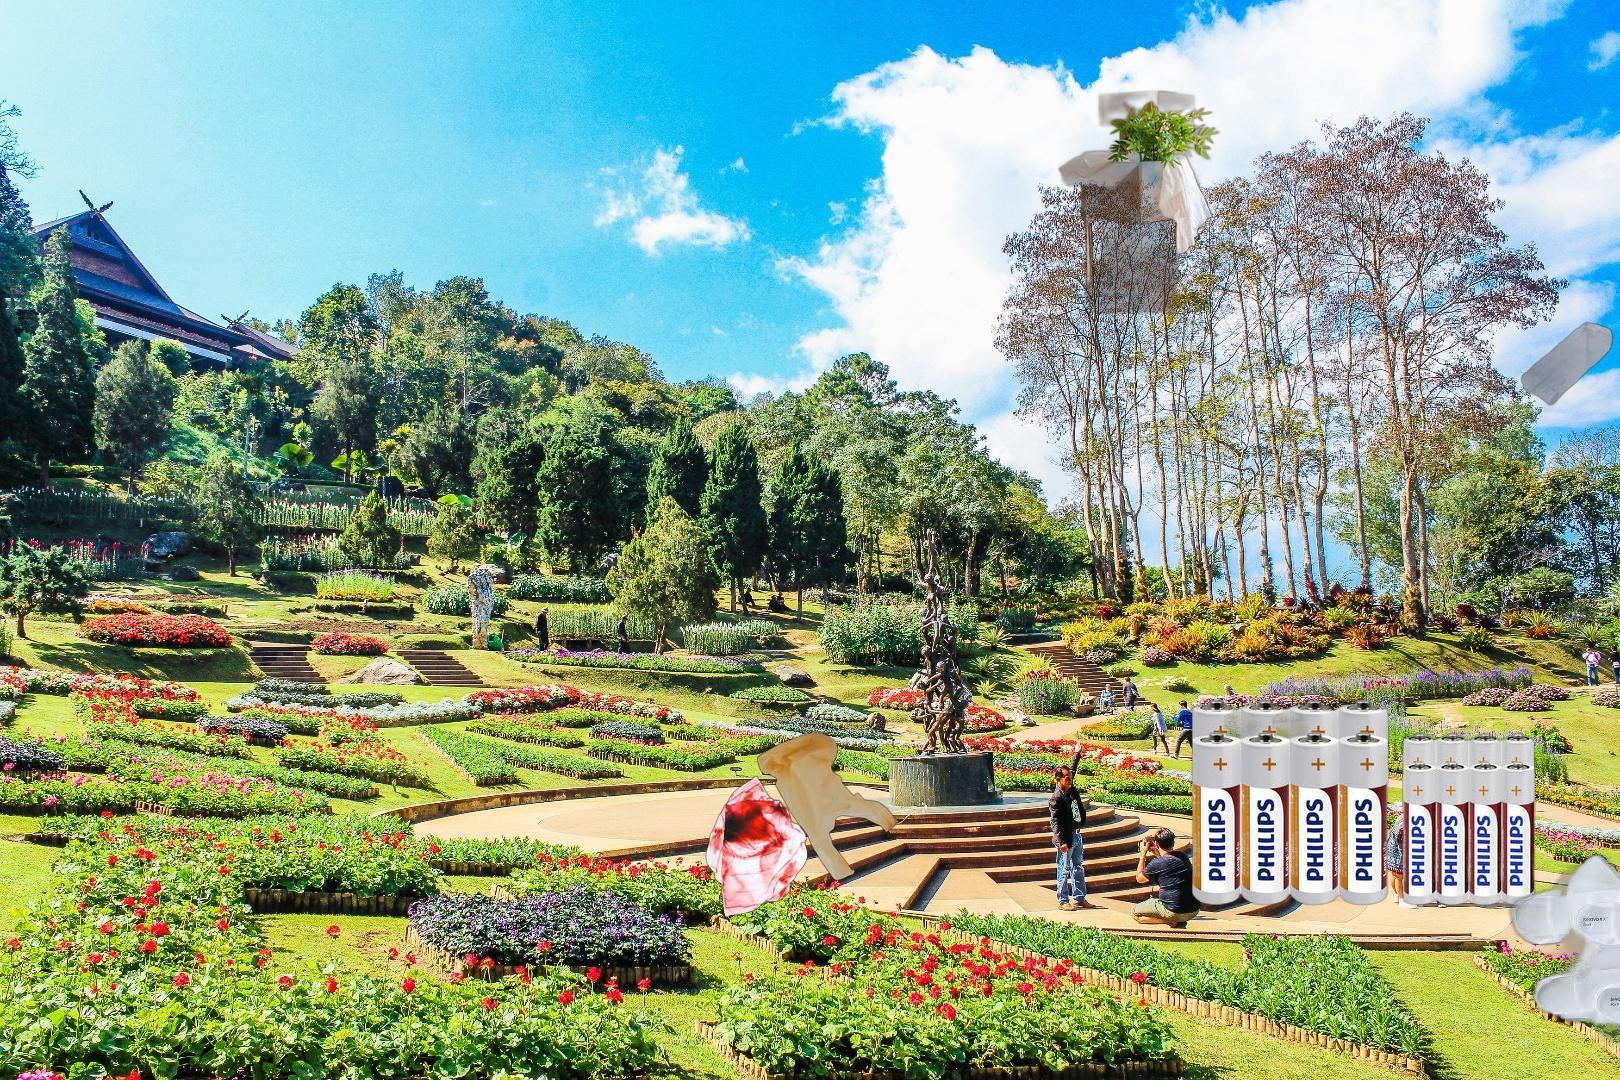battery: (1188, 698, 1538, 909)
plastic-bag: (703, 729, 918, 920), (1519, 319, 1616, 407)
trash: (1505, 849, 1620, 1073)
trashbox-cardboard: (1000, 89, 1222, 322)
